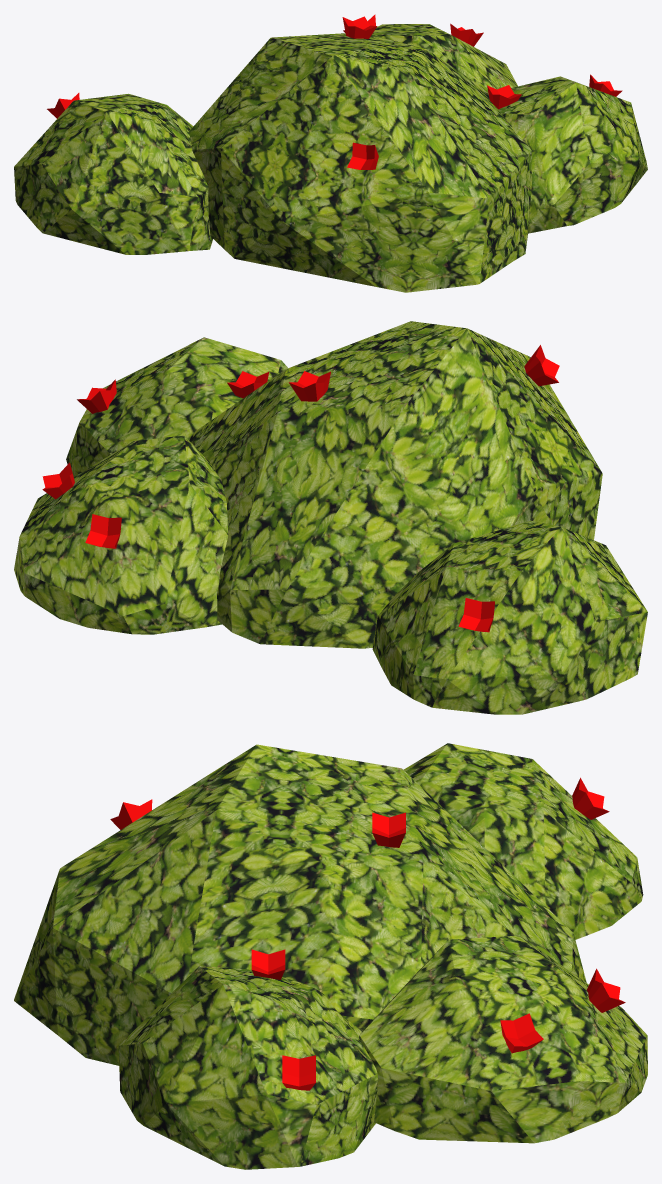
Rendered from Bush1.3.obj.
The picture shows the model from 3 angles, top to bottom: view 1: azimuth 30°, elevation 25°; view 2: azimuth 150°, elevation 25°; view 3: azimuth 270°, elevation 25°; orthographic projection. The views are drawn at different scales.
Visible parts, largest first — view 1: Bush1.001_Icosphere.001, Bush1.3_Icosphere; view 2: Bush1.001_Icosphere.001, Bush1.3_Icosphere; view 3: Bush1.001_Icosphere.001, Bush1.3_Icosphere.
Boxes of the visible parts, x1=… form: Bush1.001_Icosphere.001: x1=14, y1=24, x2=647, y2=292; Bush1.3_Icosphere: x1=47, y1=14, x2=622, y2=169; Bush1.001_Icosphere.001: x1=14, y1=321, x2=647, y2=714; Bush1.3_Icosphere: x1=42, y1=345, x2=559, y2=632; Bush1.001_Icosphere.001: x1=14, y1=743, x2=647, y2=1169; Bush1.3_Icosphere: x1=110, y1=777, x2=625, y2=1090.
Size of the model in its own units: 3.51 by 1.16 by 2.81.
Materials: 2 (2 with a texture image).
